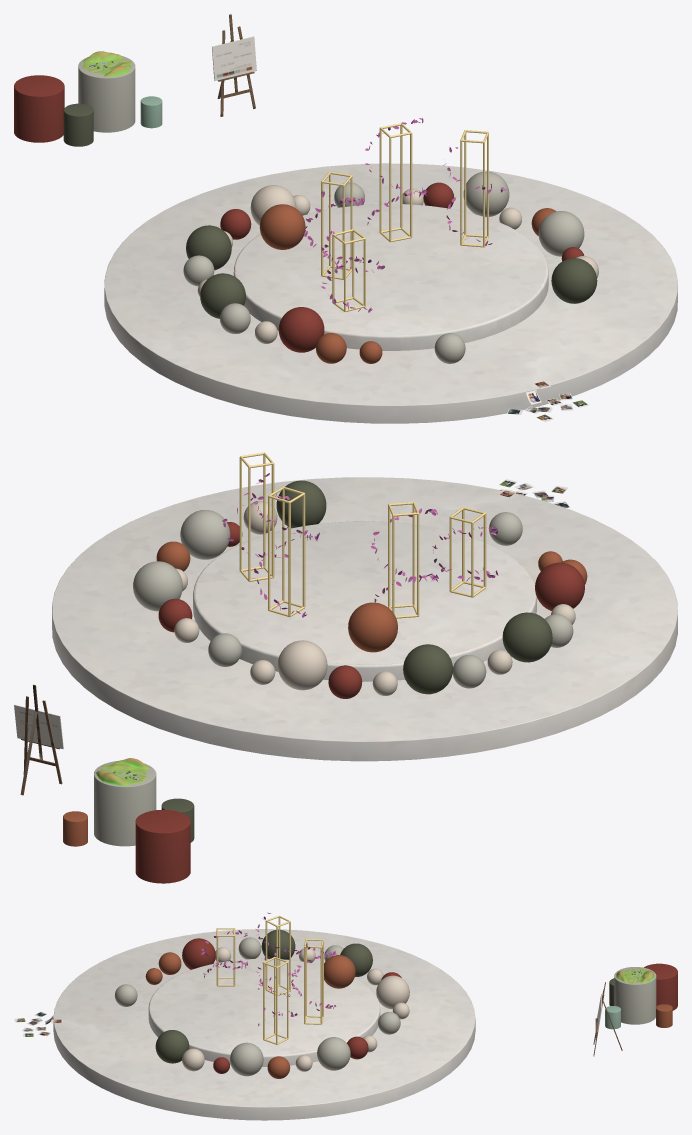
Rendered from Rombich-transformed.glb.
3 views of the same model, one above another, from view 1: azimuth 30°, elevation 25°; view 2: azimuth 150°, elevation 25°; view 3: azimuth 270°, elevation 25° (orthographic). The views are drawn at different scales.
Parts seen in each view (by area): view 1: Mainstage.001, Drokino.001, SphereGreen.001, Golden.001, SphereDarkGreen.001, SphereRed.001, SphereOrange.001, SphereNejno.001, Malbert.001, Flowers1.001, Photo1.001; view 2: Mainstage.001, Drokino.001, SphereGreen.001, Golden.001, SphereDarkGreen.001, SphereNejno.001, SphereRed.001, SphereOrange.001, Flowers1.001, Malbert.001, Photo1.001; view 3: Mainstage.001, Drokino.001, SphereGreen.001, Golden.001, SphereNejno.001, SphereDarkGreen.001, SphereOrange.001, SphereRed.001, Flowers1.001, Photo1.001.
Part boxes in pixels (x1,y1,x2,y2): Mainstage.001: [104, 14, 677, 423]; Drokino.001: [14, 51, 162, 146]; SphereGreen.001: [183, 171, 584, 363]; Golden.001: [321, 123, 488, 311]; SphereDarkGreen.001: [186, 225, 597, 318]; SphereRed.001: [220, 182, 584, 352]; SphereOrange.001: [259, 204, 556, 363]; SphereNejno.001: [197, 185, 598, 343]; Malbert.001: [212, 36, 256, 80]; Flowers1.001: [304, 118, 505, 312]; Photo1.001: [507, 381, 588, 421]; Mainstage.001: [20, 477, 677, 795]; Drokino.001: [63, 758, 194, 883]; SphereGreen.001: [133, 510, 573, 688]; Golden.001: [239, 452, 486, 618]; SphereDarkGreen.001: [276, 480, 552, 694]; SphereNejno.001: [174, 501, 575, 695]; SphereRed.001: [158, 522, 584, 698]; SphereOrange.001: [156, 541, 587, 652]; Flowers1.001: [222, 473, 498, 617]; Malbert.001: [14, 704, 63, 748]; Photo1.001: [499, 479, 569, 507]; Mainstage.001: [53, 929, 622, 1120]; Drokino.001: [605, 963, 677, 1029]; SphereGreen.001: [114, 937, 400, 1076]; Golden.001: [216, 915, 323, 1044]; SphereNejno.001: [182, 947, 409, 1071]; SphereDarkGreen.001: [155, 929, 372, 1063]; SphereOrange.001: [145, 952, 355, 1078]; SphereRed.001: [182, 938, 401, 1073]; Flowers1.001: [201, 912, 336, 1025]; Photo1.001: [14, 1012, 62, 1036].
Size of what is drawn, in the model's own units: 10 by 2.98 by 15.73.
11 materials, 11 textured.
